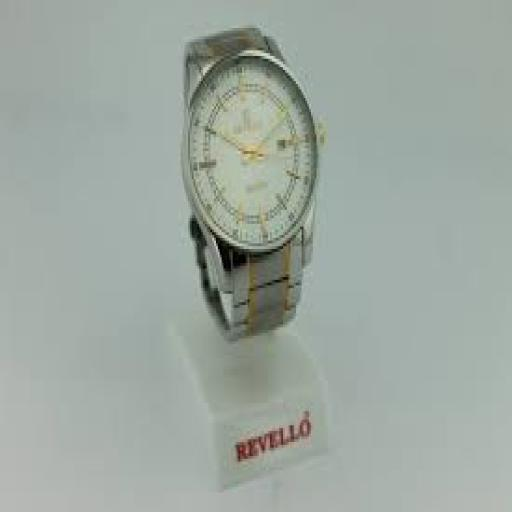KolSaati: (139, 20, 349, 388)
